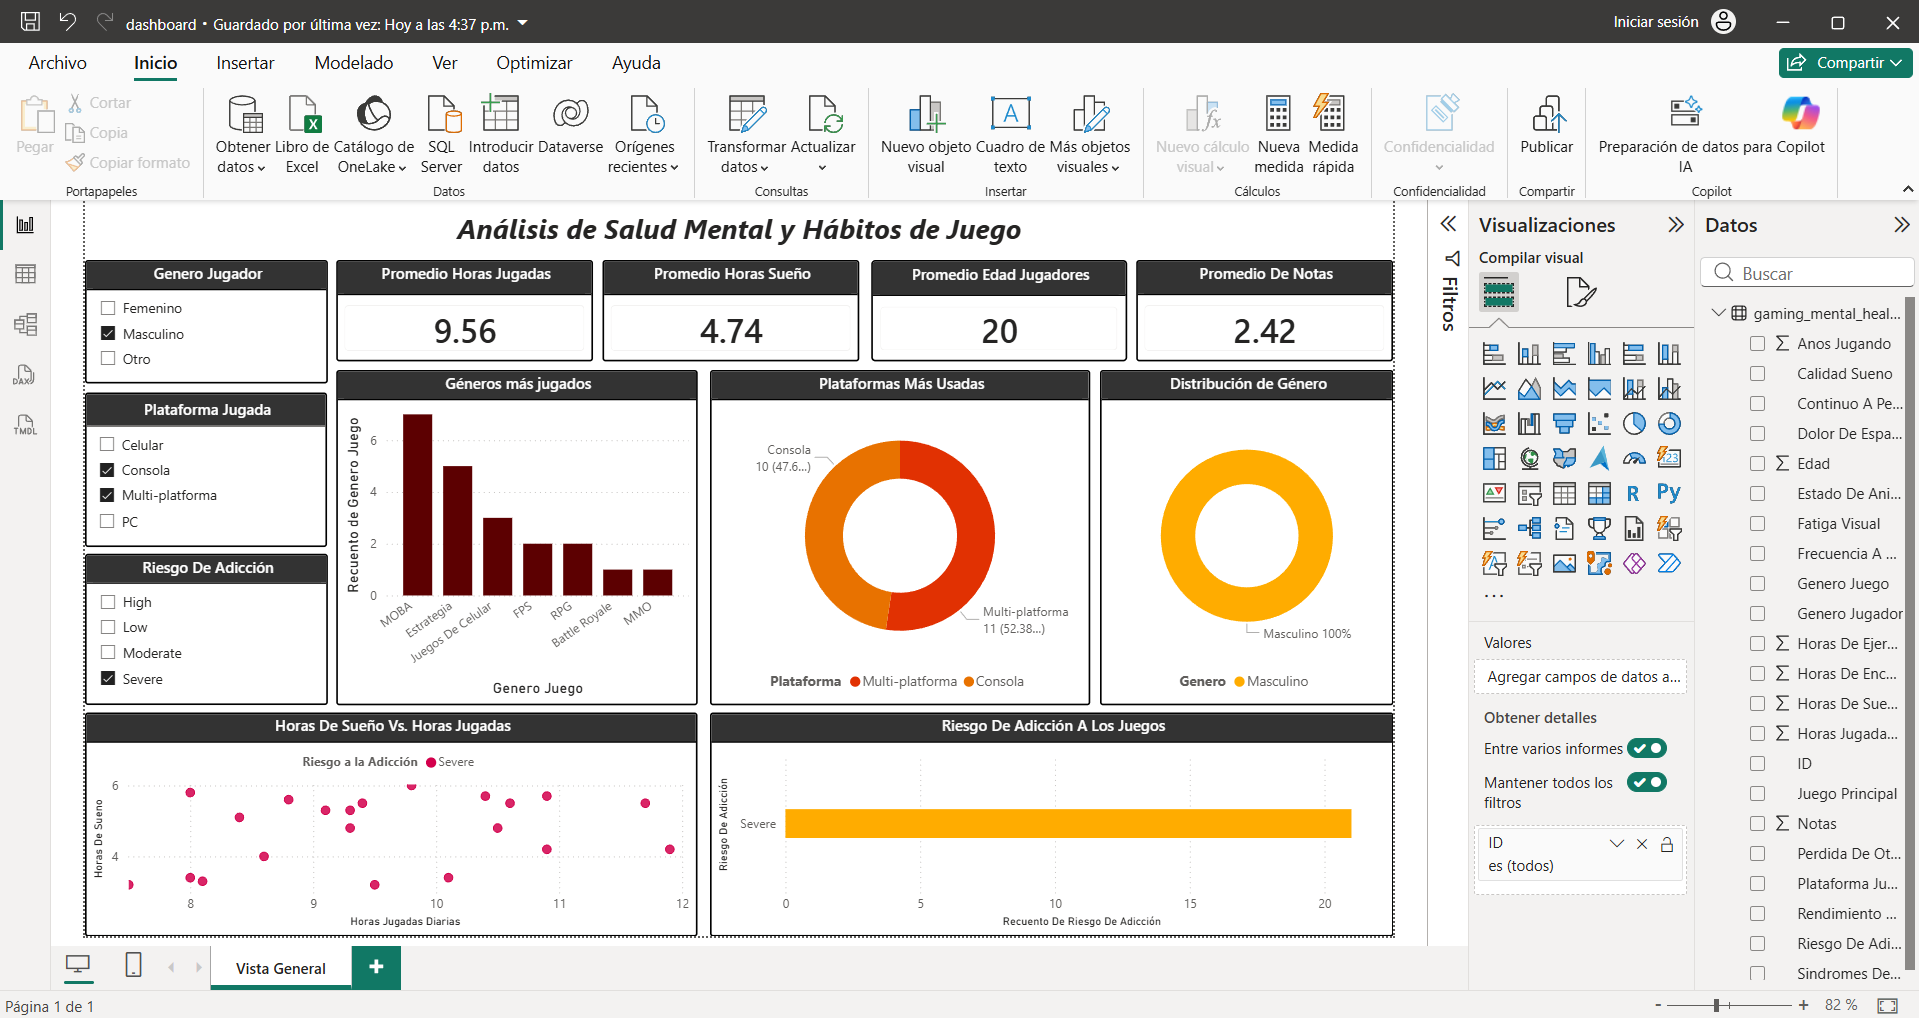

Layout of this report page (visuals, bound fields, positions):
{"tool":"powerbi","page":{"name":"Vista General","canvas":[1280,720],"ordinal":0},"visuals":[{"type":"textbox","box":[0,5.1,1280.3,46.2],"z":0},{"type":"cardVisual","title":"Promedio Horas Jugadas","fields":{"Data":["Avg(gaming_mental_health_cleaning.Horas Jugadas Diarias)"]},"box":[245.6,58.9,251.1,98.9],"z":1000},{"type":"cardVisual","title":"Promedio Horas Sueño","fields":{"Data":["Avg(gaming_mental_health_cleaning.Horas De Sueno)"]},"box":[506.7,58.9,251.1,98.9],"z":2000},{"type":"cardVisual","title":"Promedio Edad Jugadores","fields":{"Data":["Avg(gaming_mental_health_cleaning.Edad)"]},"box":[768.9,58.9,250,98.9],"z":3000},{"type":"cardVisual","title":"Promedio De Notas","fields":{"Data":["Avg(gaming_mental_health_cleaning.Notas)"]},"box":[1028.9,58.9,251.1,98.9],"z":4000},{"type":"columnChart","title":"Géneros más jugados","fields":{"Category":["gaming_mental_health_cleaning.Genero Juego"],"Y":["CountNonNull(gaming_mental_health_cleaning.Genero Juego)"]},"box":[245.9,166,353.3,328],"z":5000},{"type":"donutChart","title":"Plataformas Más Usadas","fields":{"Category":["gaming_mental_health_cleaning.Plataforma Jugada"],"Y":["CountNonNull(gaming_mental_health_cleaning.Plataforma Jugada)"]},"box":[611.4,166.3,371.7,327.7],"z":6000},{"type":"clusteredBarChart","title":"Riesgo De Adicción A Los Juegos","fields":{"Category":["gaming_mental_health_cleaning.Riesgo De Adiccion A Los Juegos"],"Y":["CountNonNull(gaming_mental_health_cleaning.Riesgo De Adiccion A Los Juegos)"]},"box":[611.4,501.4,668.9,218.9],"z":7000},{"type":"donutChart","title":"Distribución de Género","fields":{"Y":["CountNonNull(gaming_mental_health_cleaning.Genero Jugador)"],"Category":["gaming_mental_health_cleaning.Genero Jugador"]},"box":[992.9,166.3,287.4,327.7],"z":8000},{"type":"slicer","title":"Genero Jugador","fields":{"Values":["gaming_mental_health_cleaning.Genero Jugador"]},"box":[0,58.9,237.8,121.1],"z":9000},{"type":"slicer","title":"Plataforma Jugada","fields":{"Values":["gaming_mental_health_cleaning.Plataforma Jugada"]},"box":[0,187.8,236.7,151.1],"z":10000},{"type":"slicer","title":"Riesgo De Adicción","fields":{"Values":["gaming_mental_health_cleaning.Riesgo De Adiccion A Los Juegos"]},"box":[0,346.7,237.8,147.8],"z":11000},{"type":"scatterChart","title":"Horas De Sueño Vs. Horas Jugadas","fields":{"X":["gaming_mental_health_cleaning.Horas Jugadas Diarias"],"Y":["gaming_mental_health_cleaning.Horas De Sueno"],"Series":["gaming_mental_health_cleaning.Riesgo De Adiccion A Los Juegos"]},"box":[0,501.4,599.2,218.9],"z":12000}]}

Visuals, with their boxes on the page's 1280x720 design canvas (x1, y1, x2, y2). These are canvas units, not pixel positions in the 1919x1018 screenshot, which may show the page scaled, cropped or inside an application window:
textbox: detection(0, 5, 1280, 51)
"Promedio Horas Jugadas" cardVisual: detection(246, 59, 497, 158)
"Promedio Horas Sueño" cardVisual: detection(507, 59, 758, 158)
"Promedio Edad Jugadores" cardVisual: detection(769, 59, 1019, 158)
"Promedio De Notas" cardVisual: detection(1029, 59, 1280, 158)
"Géneros más jugados" columnChart: detection(246, 166, 599, 494)
"Plataformas Más Usadas" donutChart: detection(611, 166, 983, 494)
"Riesgo De Adicción A Los Juegos" clusteredBarChart: detection(611, 501, 1280, 720)
"Distribución de Género" donutChart: detection(993, 166, 1280, 494)
"Genero Jugador" slicer: detection(0, 59, 238, 180)
"Plataforma Jugada" slicer: detection(0, 188, 237, 339)
"Riesgo De Adicción" slicer: detection(0, 347, 238, 494)
"Horas De Sueño Vs. Horas Jugadas" scatterChart: detection(0, 501, 599, 720)
